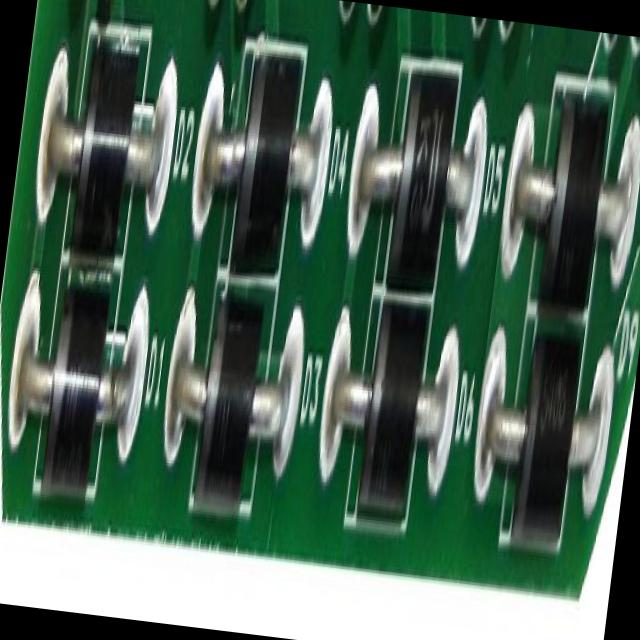diode: (213, 22, 310, 280), (500, 308, 591, 568), (54, 33, 150, 250), (184, 270, 271, 500), (28, 288, 114, 520), (378, 63, 466, 289), (348, 302, 432, 534), (532, 78, 616, 307)
